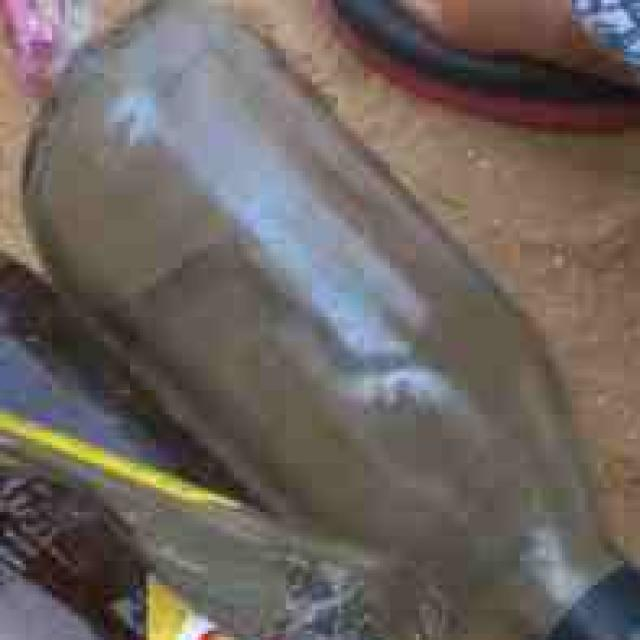chai_thuy_tinh: (26, 0, 634, 637)
